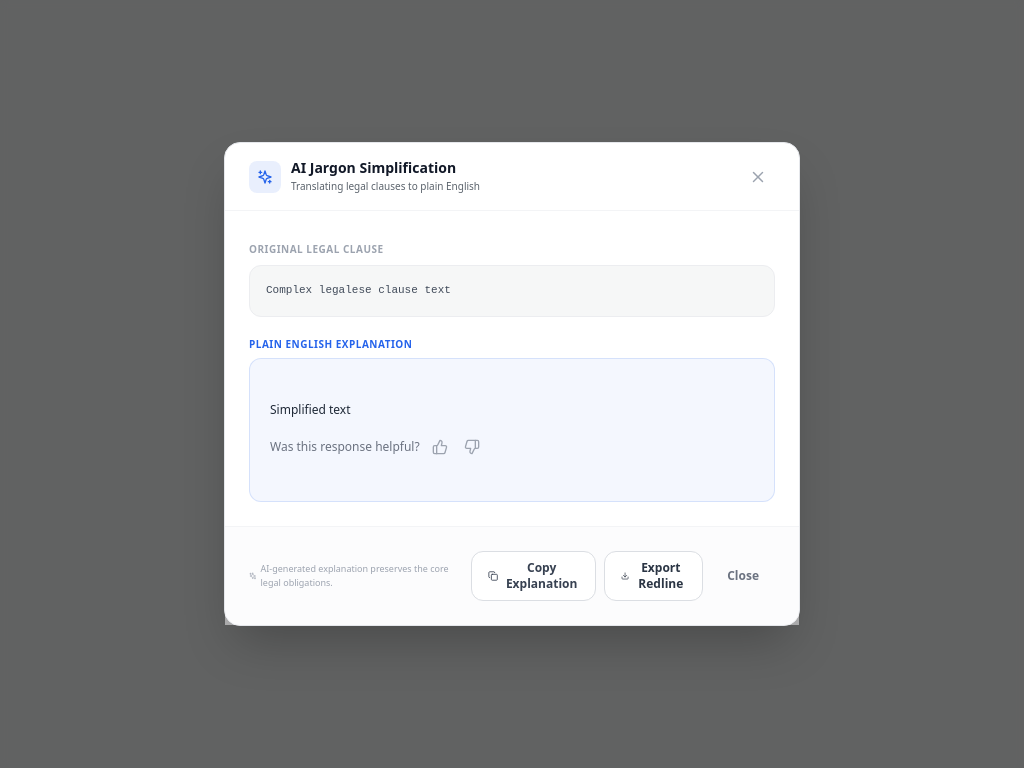
Test case: SimplifyModal Component › allows copying to clipboard when simplification succeeds
Expected: the text "Simplified text" is shown, [270,401,350,418]
Click the button "Copy Explanation".
click(534, 576)  # box [471,551,596,601]
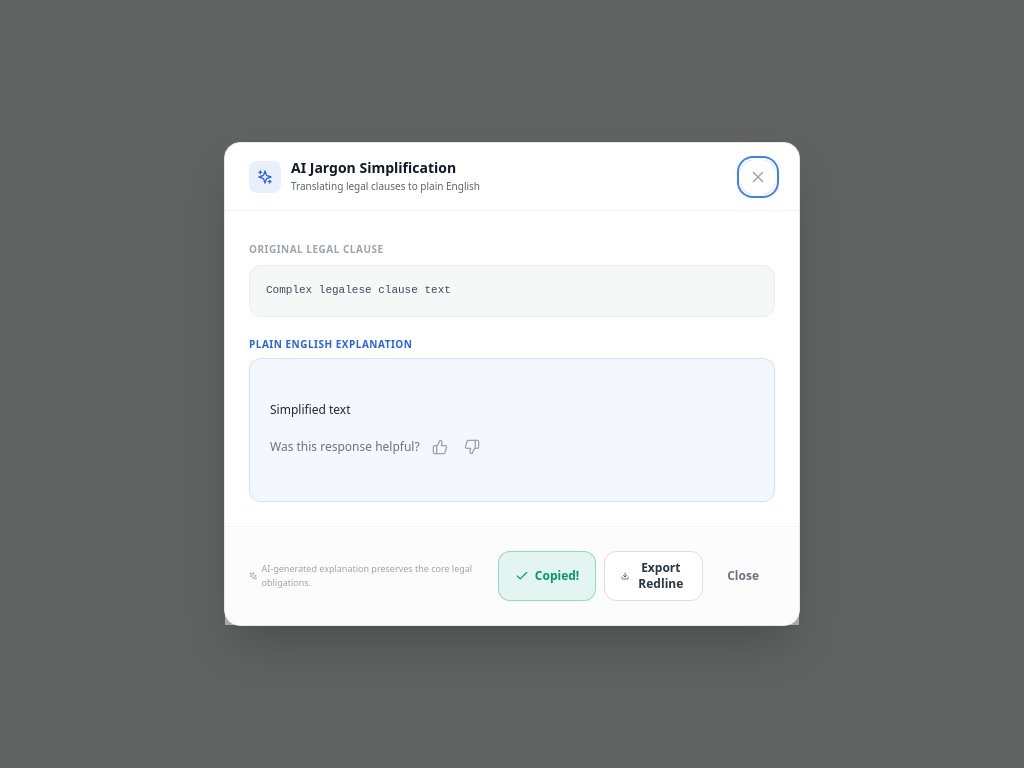
Expected: the text "Copied!" is shown, [535,567,579,584]
